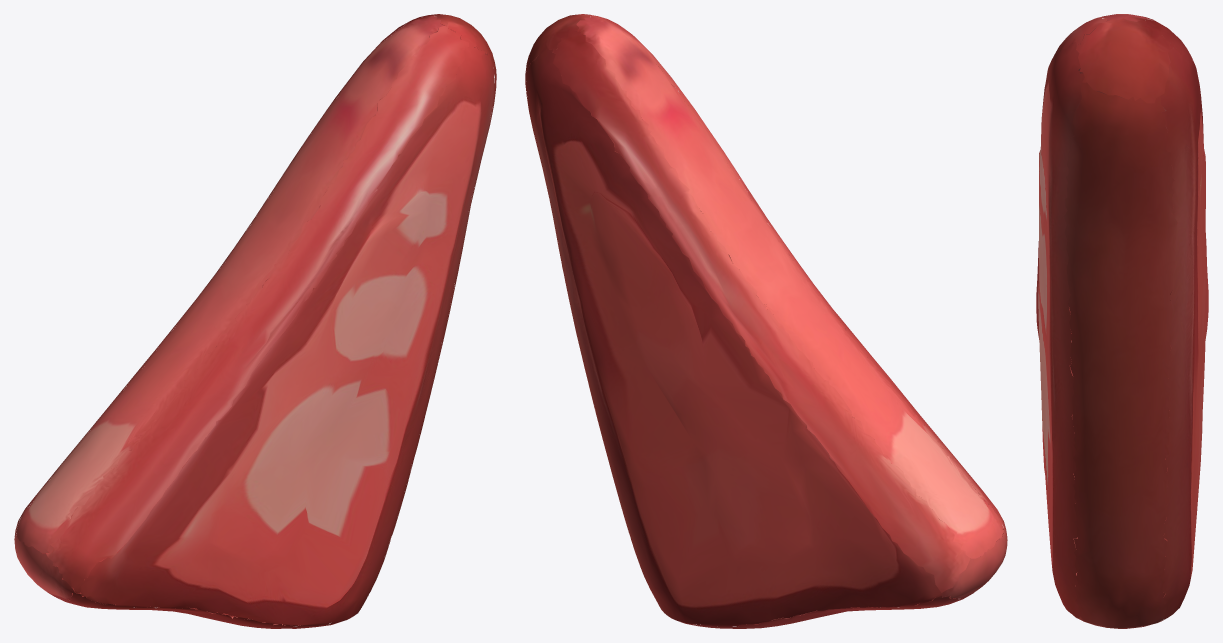
Rendered from starfish.glb.
3 renders of one model, left to right at view 1: azimuth 30°, elevation 25°; view 2: azimuth 150°, elevation 25°; view 3: azimuth 270°, elevation 25°, orthographic. The views are drawn at different scales.
Bounding box in the file's own units: 1.8 × 2.1 × 0.4916.
Materials: 1 (1 with a texture image).
